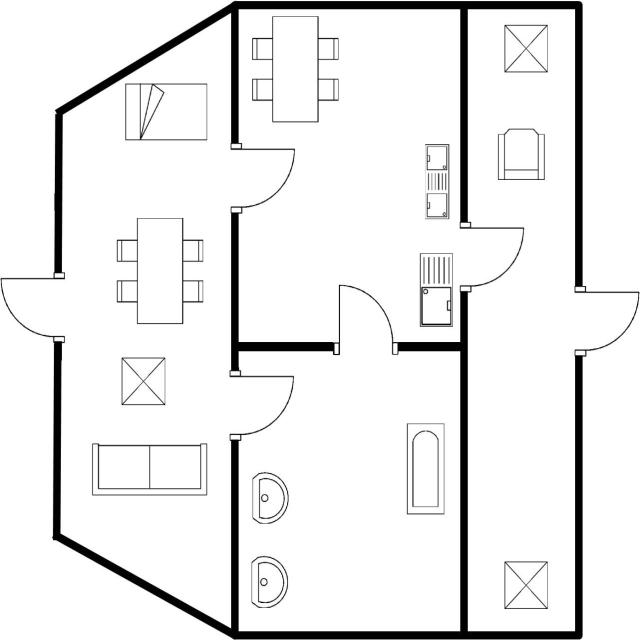armchair: (492, 123, 550, 185)
bed: (121, 79, 213, 147)
cavity: (400, 419, 449, 519)
coffee_table: (113, 352, 172, 410), (500, 556, 554, 613), (498, 19, 550, 77)
dining_table: (112, 214, 210, 328), (248, 12, 343, 126)
large_sofa: (86, 439, 210, 501)
sink: (413, 248, 458, 332)
small_sink: (244, 551, 292, 612), (248, 469, 290, 528)
tub: (402, 418, 449, 518)
twin_sink: (418, 140, 453, 222)
